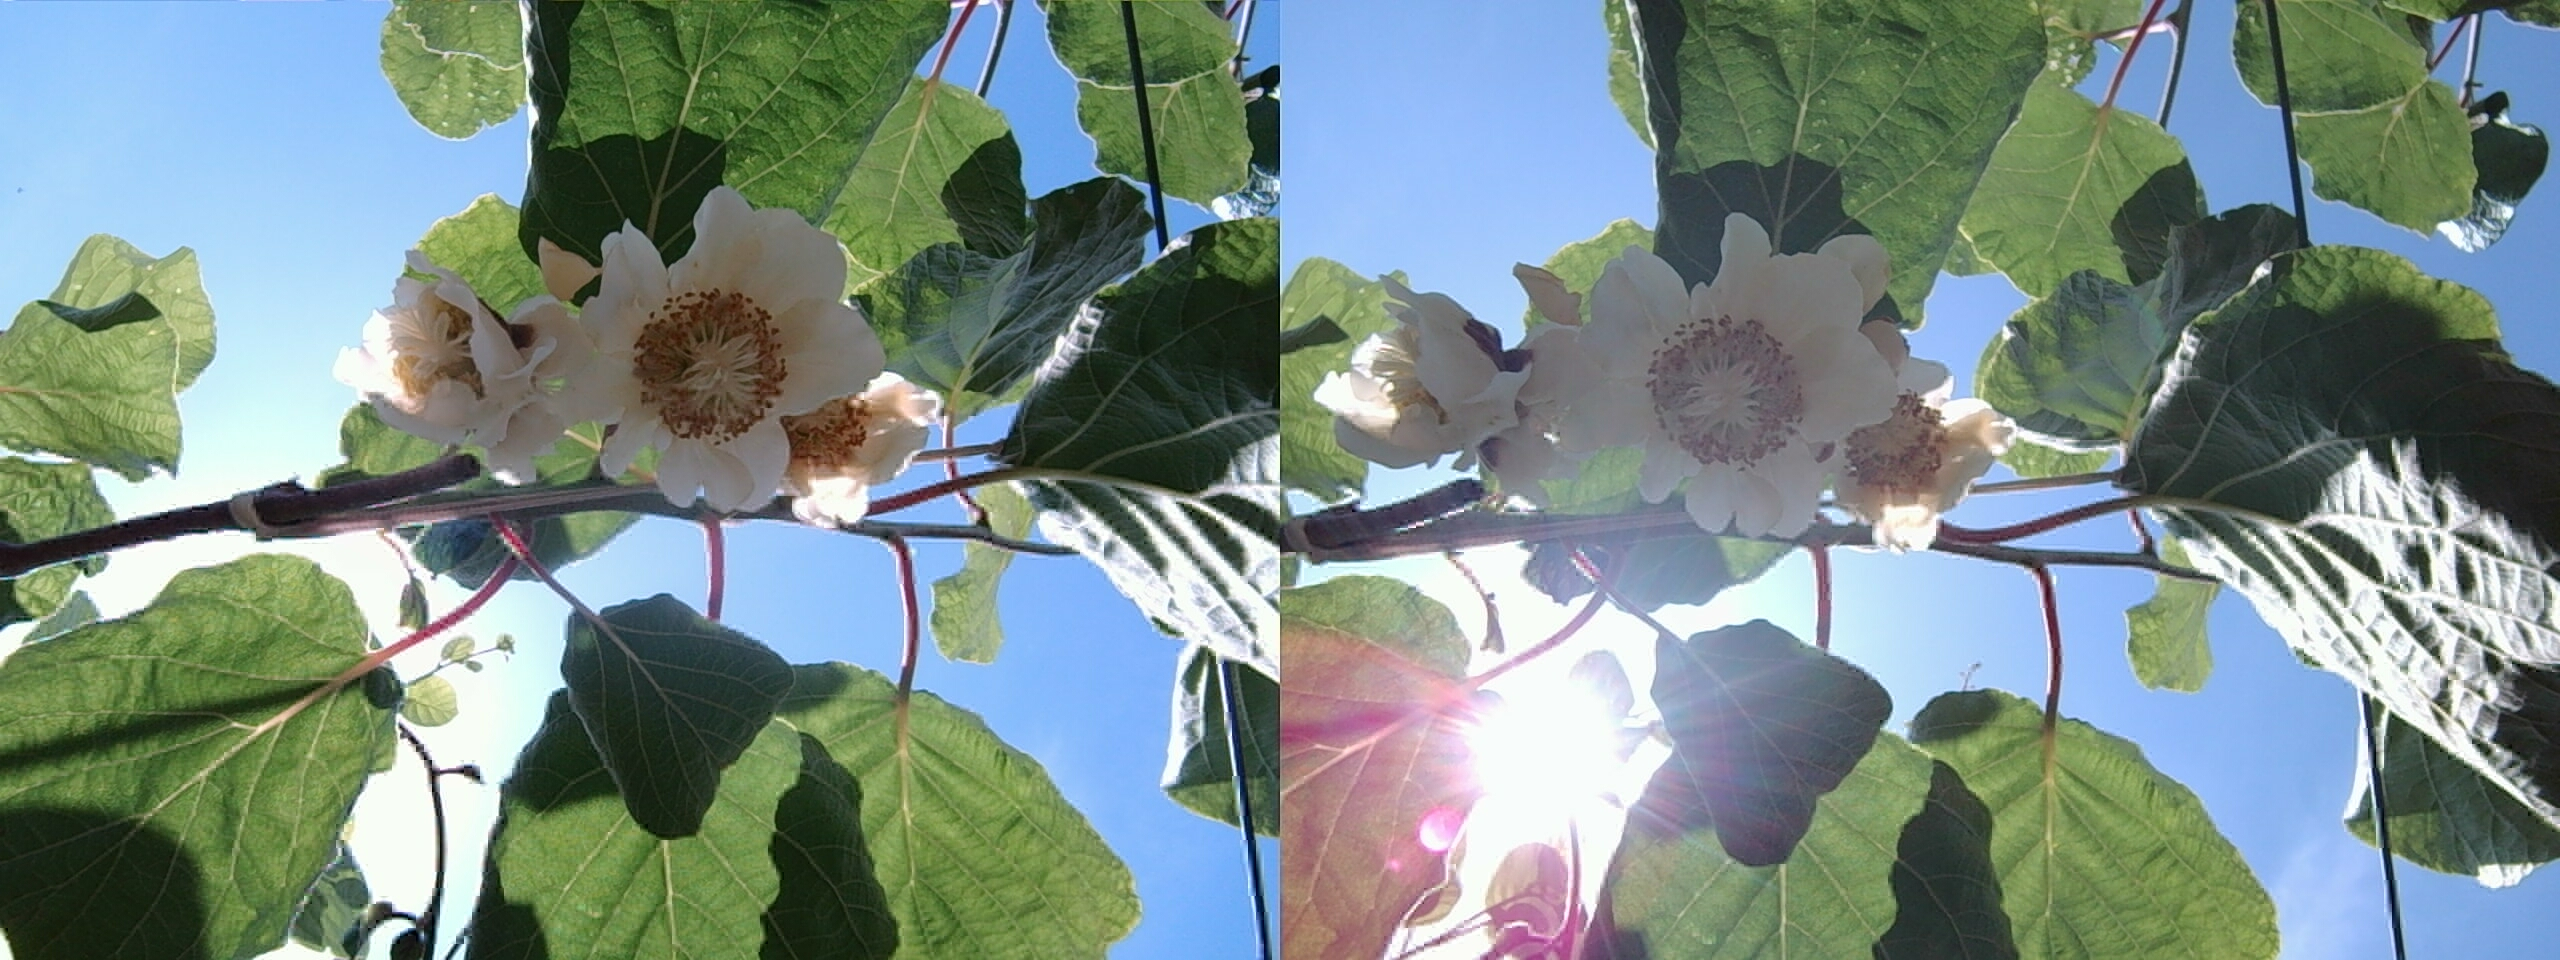flower: (573, 212, 842, 500), (1618, 227, 1876, 526), (1806, 359, 2010, 542), (341, 274, 555, 436), (1327, 310, 1525, 459), (772, 367, 926, 501)
